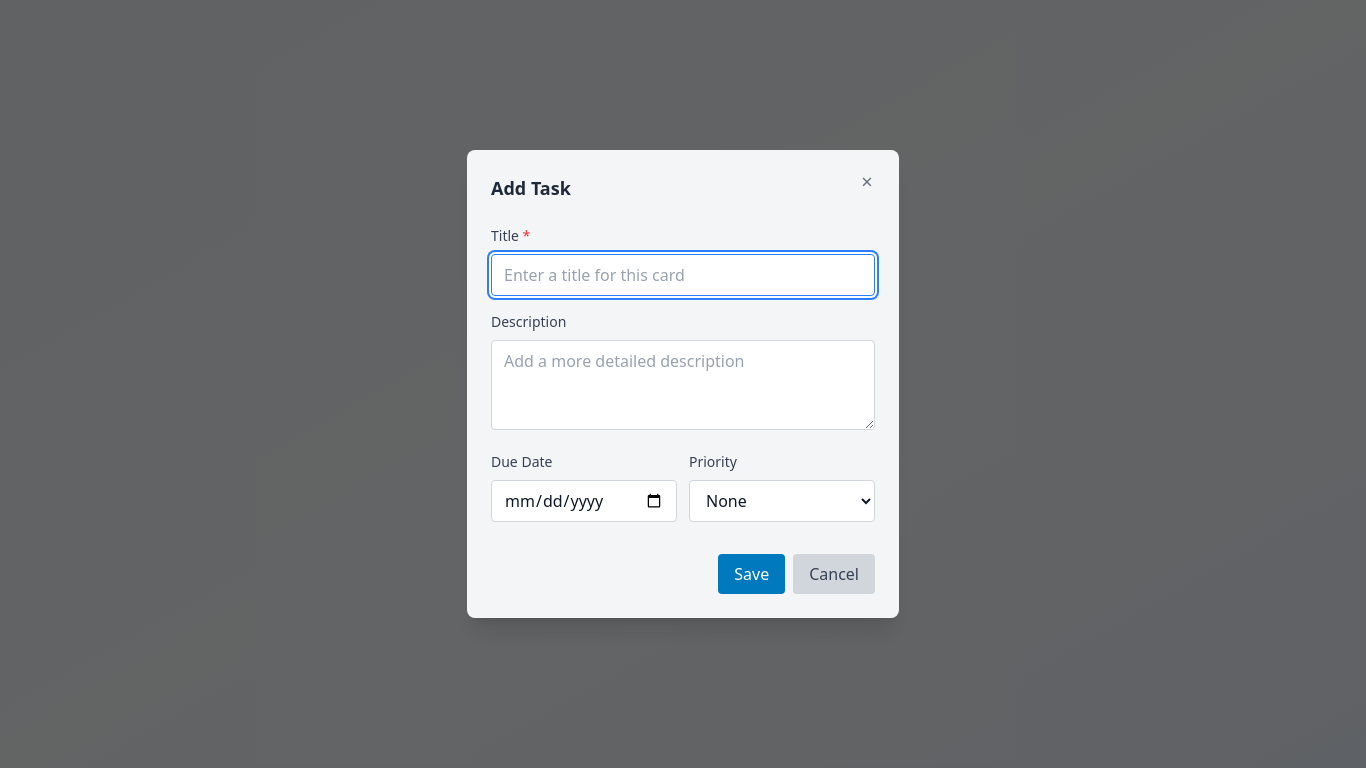
Test case: TaskFormModal › Form Validation › clears validation error when user types in title
Click the button "Save" at (752,574), box [718,554,785,594]
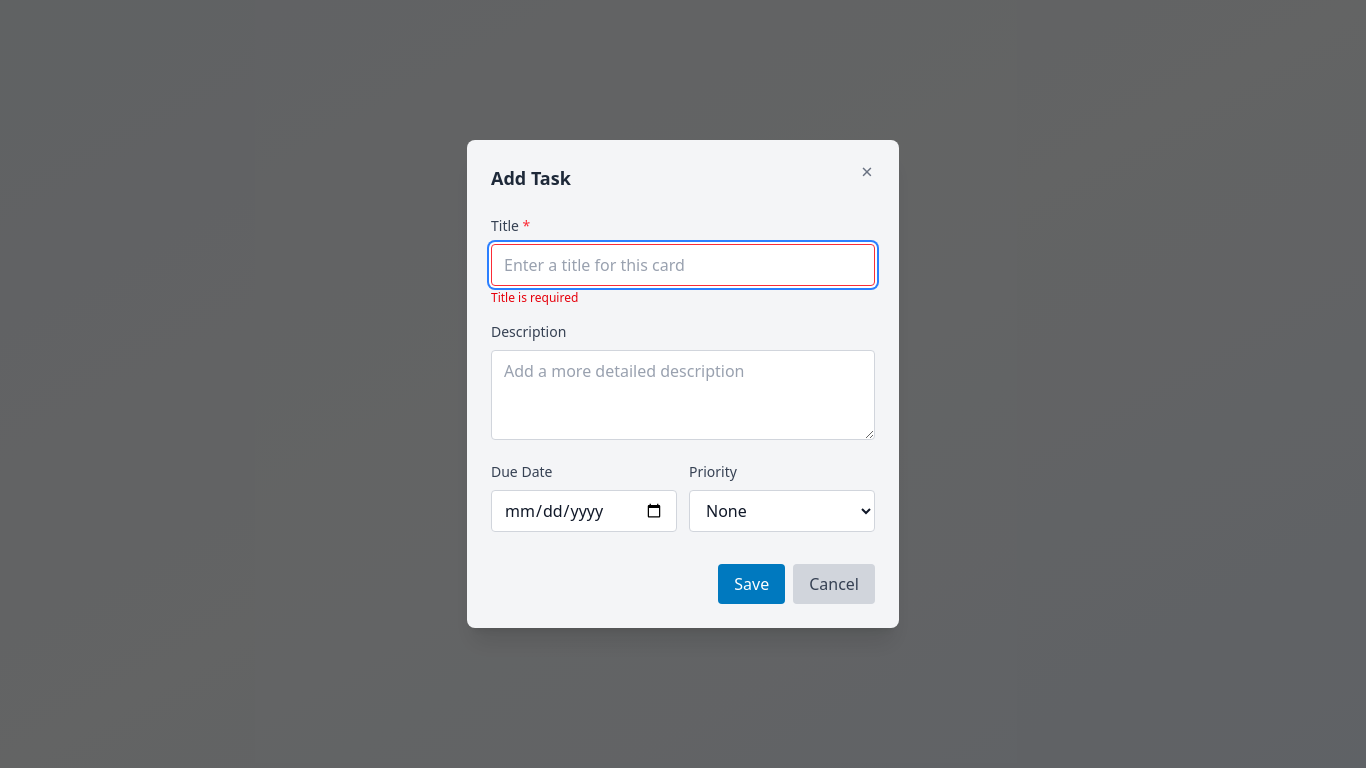
Check: the text "Title is required" is shown, box [491,289,578,306]
Type "New Task" into the field labelled "Title *" at (683,265), box [491,244,875,286]
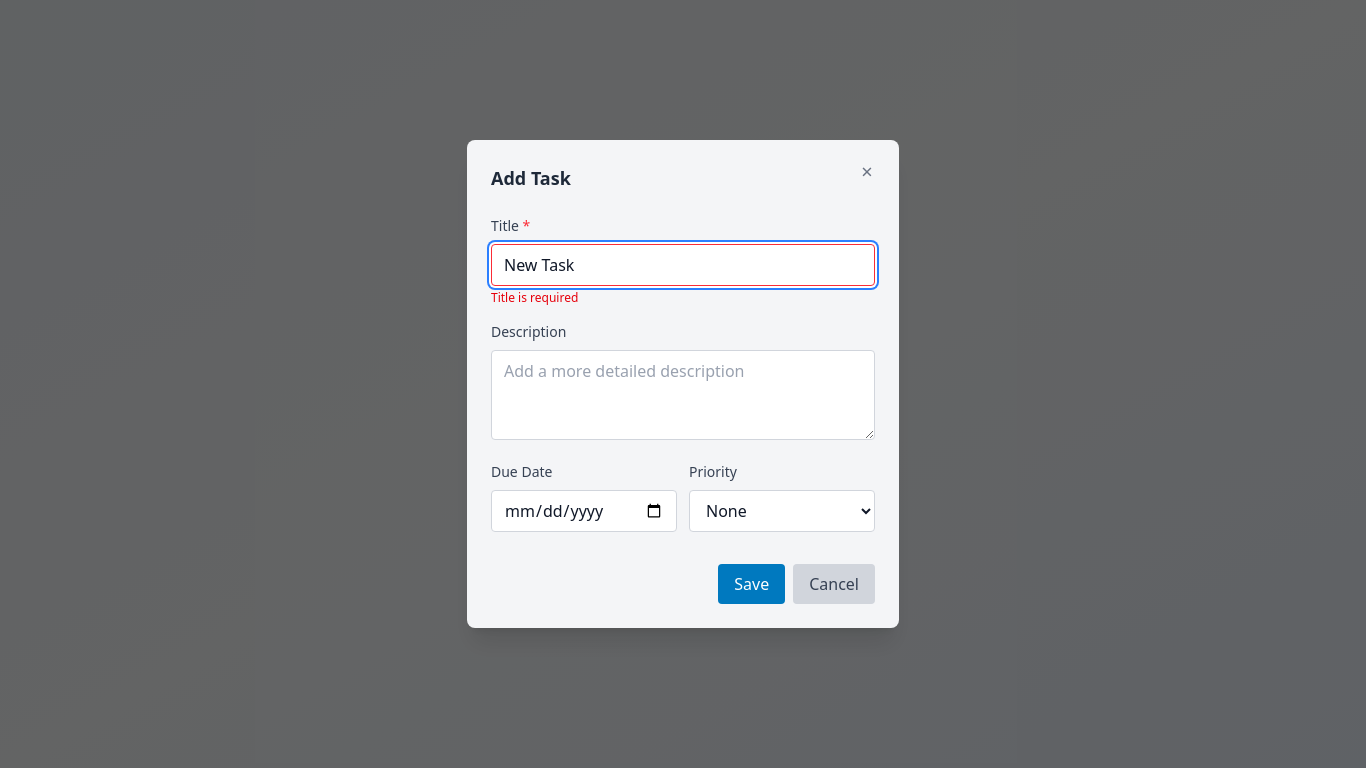
Click the button "Save" at (752,584), box [718,564,785,604]
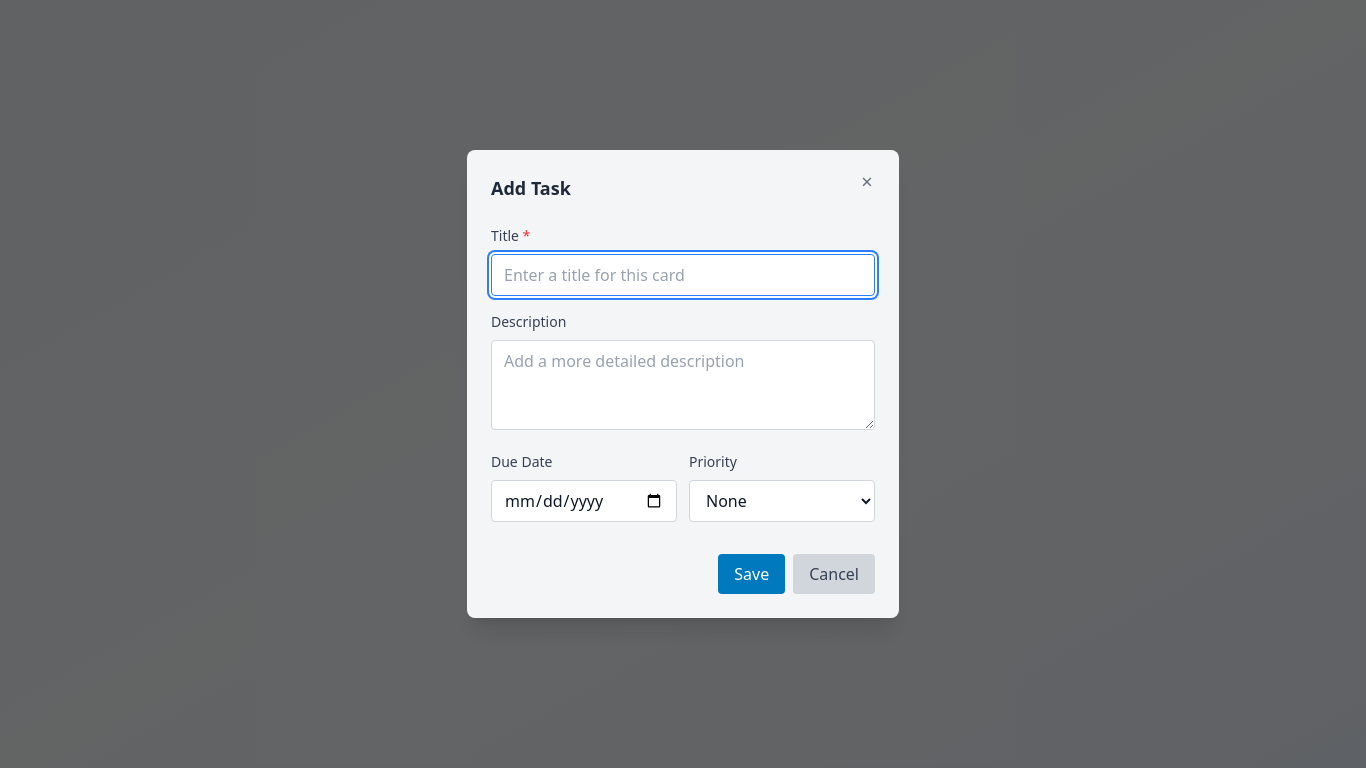
Check: the text "Title is required" is gone
